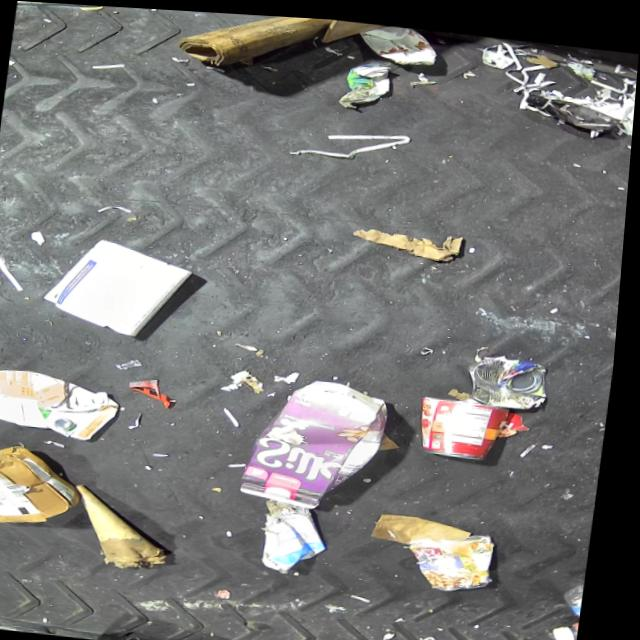can: (418, 389, 515, 457), (410, 520, 504, 590), (466, 346, 557, 407), (354, 19, 444, 63)
non_white_jug: (244, 371, 401, 511), (0, 365, 126, 443)
